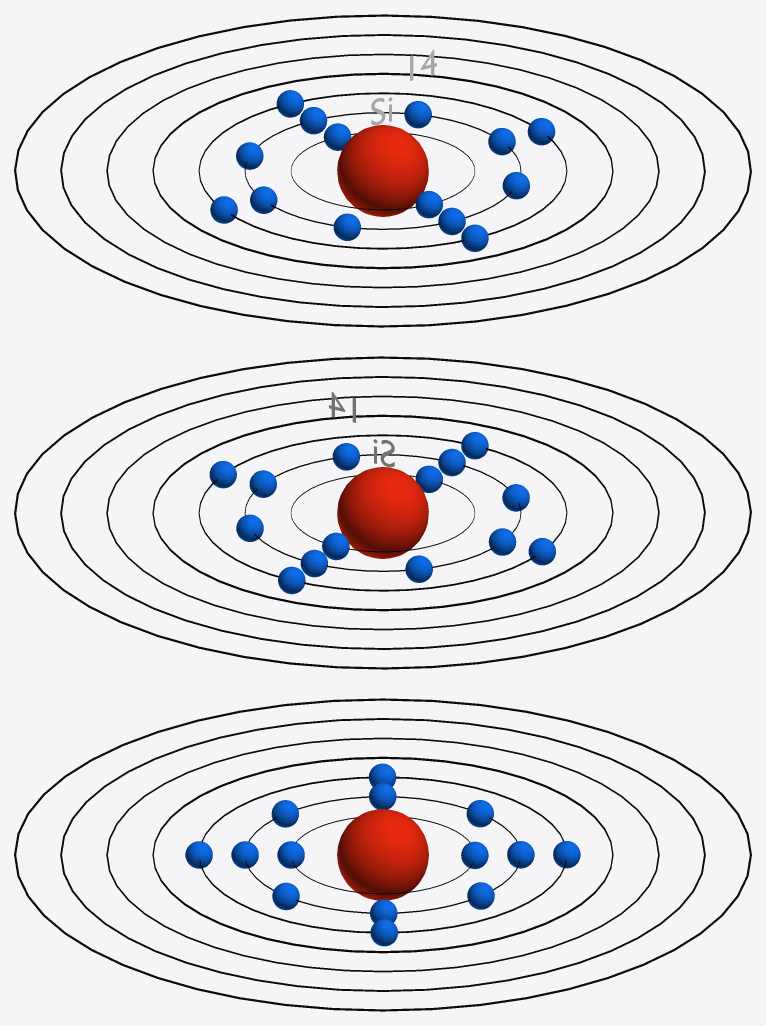
3 renders of one model, top to bottom at view 1: azimuth 30°, elevation 25°; view 2: azimuth 150°, elevation 25°; view 3: azimuth 270°, elevation 25°, orthographic.
Visible parts, largest first — view 1: Proton, Si2, n7, n6, n5, n4, Si3, n3, Si1, n2; view 2: Proton, Si2, n7, n6, n5, n4, Si3, n3, Si1, n2; view 3: Proton, Si2, n7, n6, n5, n4, Si3, n3, Si1, n2, n1.
Boxes of the visible parts, left/top/right/bottom form: Proton: left=337, top=125, right=428, bottom=216; Si2: left=236, top=101, right=529, bottom=240; n7: left=14, top=14, right=751, bottom=327; n6: left=60, top=34, right=705, bottom=307; n5: left=106, top=53, right=659, bottom=288; n4: left=152, top=72, right=613, bottom=269; Si3: left=210, top=90, right=555, bottom=251; n3: left=198, top=92, right=567, bottom=249; Si1: left=323, top=123, right=442, bottom=218; n2: left=244, top=112, right=521, bottom=229; Proton: left=337, top=467, right=428, bottom=558; Si2: left=236, top=443, right=529, bottom=582; n7: left=14, top=356, right=751, bottom=669; n6: left=60, top=376, right=705, bottom=649; n5: left=106, top=395, right=659, bottom=630; n4: left=152, top=414, right=613, bottom=611; Si3: left=209, top=432, right=555, bottom=594; n3: left=198, top=434, right=567, bottom=591; Si1: left=322, top=465, right=442, bottom=560; n2: left=244, top=454, right=521, bottom=571; Proton: left=337, top=809, right=428, bottom=900; Si2: left=231, top=783, right=534, bottom=922; n7: left=14, top=698, right=751, bottom=1011; n6: left=60, top=718, right=705, bottom=991; n5: left=106, top=737, right=659, bottom=972; n4: left=152, top=756, right=613, bottom=953; Si3: left=185, top=763, right=580, bottom=946; n3: left=199, top=776, right=566, bottom=933; Si1: left=277, top=841, right=488, bottom=869; n2: left=245, top=796, right=520, bottom=913; n1: left=292, top=817, right=473, bottom=894.
Size of the model in its own units: 802 by 180 by 802.
